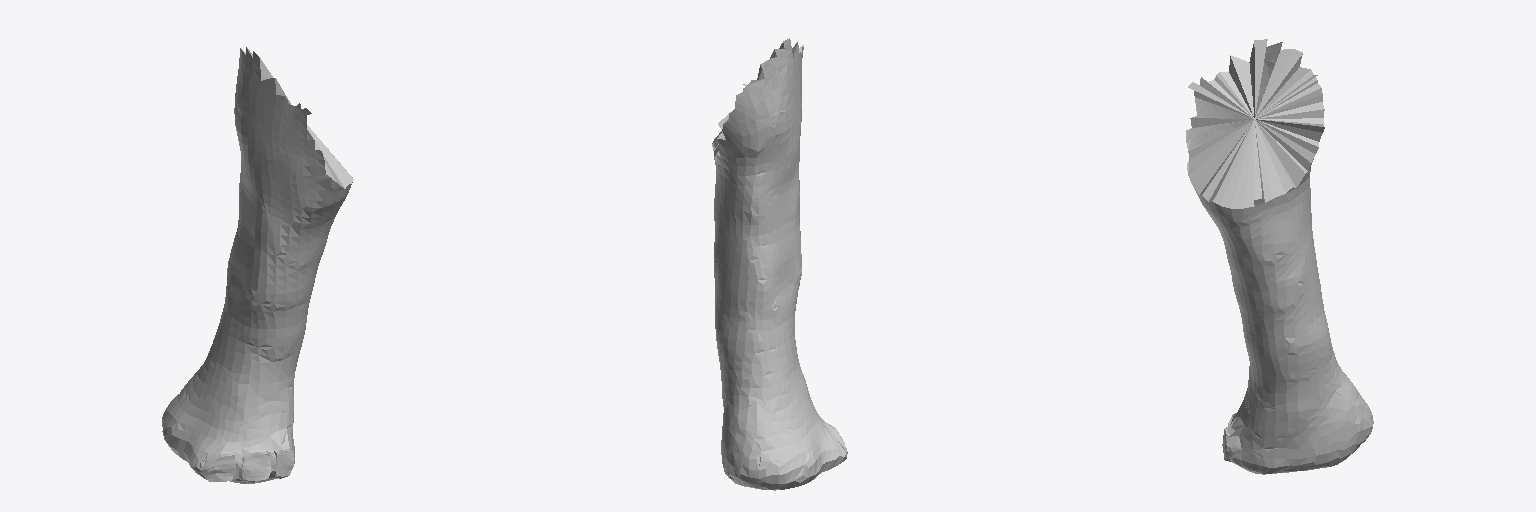
Rendered from pata_DelanDer.obj.
The picture shows the model from 3 angles: view 1: azimuth 30°, elevation 25°; view 2: azimuth 150°, elevation 25°; view 3: azimuth 270°, elevation 25°; orthographic projection.
Visible parts, largest first — view 1: pata_DelanDer; view 2: pata_DelanDer; view 3: pata_DelanDer.
Part boxes in pixels (x1,y1,x2,y2): pata_DelanDer: (162,47,353,483); pata_DelanDer: (712,38,847,490); pata_DelanDer: (1186,39,1373,474).
Bounding box in the file's own units: 41.91 × 122 × 48.99.